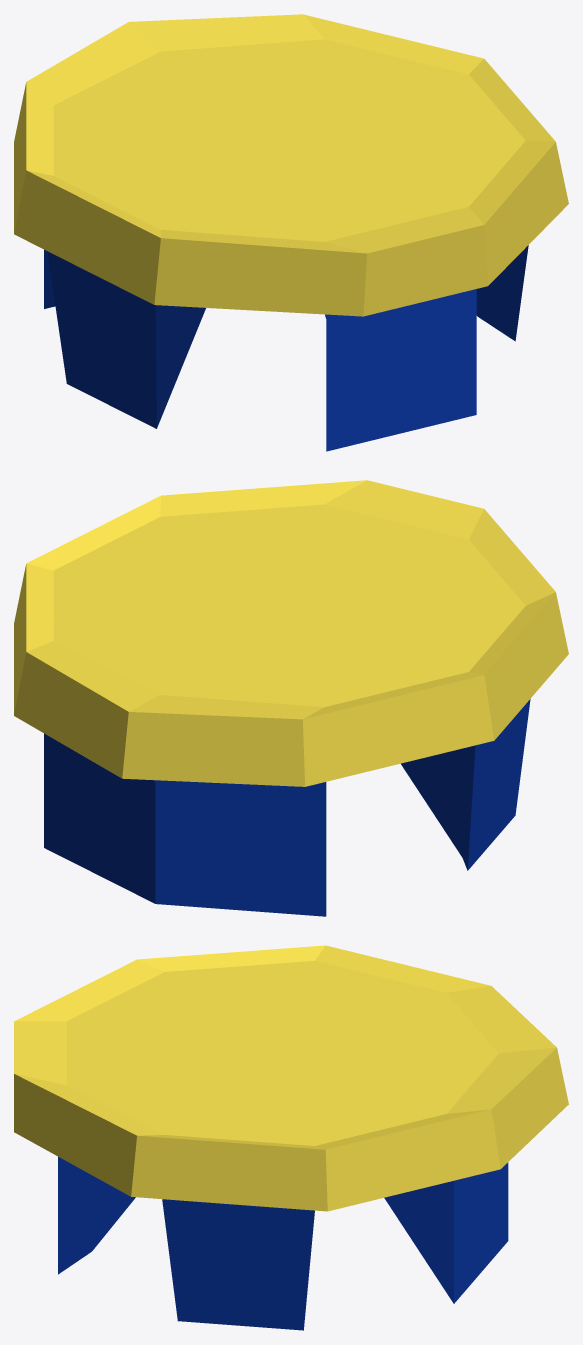
The model's file is Base_Nave.fbx.
3 views of the same model, one above another, from view 1: azimuth 30°, elevation 25°; view 2: azimuth 150°, elevation 25°; view 3: azimuth 270°, elevation 25° (orthographic). The views are drawn at different scales.
Visible parts, largest first — view 1: Nave; view 2: Nave; view 3: Nave.
Boxes of the visible parts, x1,y1,x2,y2 form: Nave: (14,14,568,451); Nave: (14,480,568,916); Nave: (14,945,568,1330).
Bounding box in the file's own units: 696 × 293 × 761.
